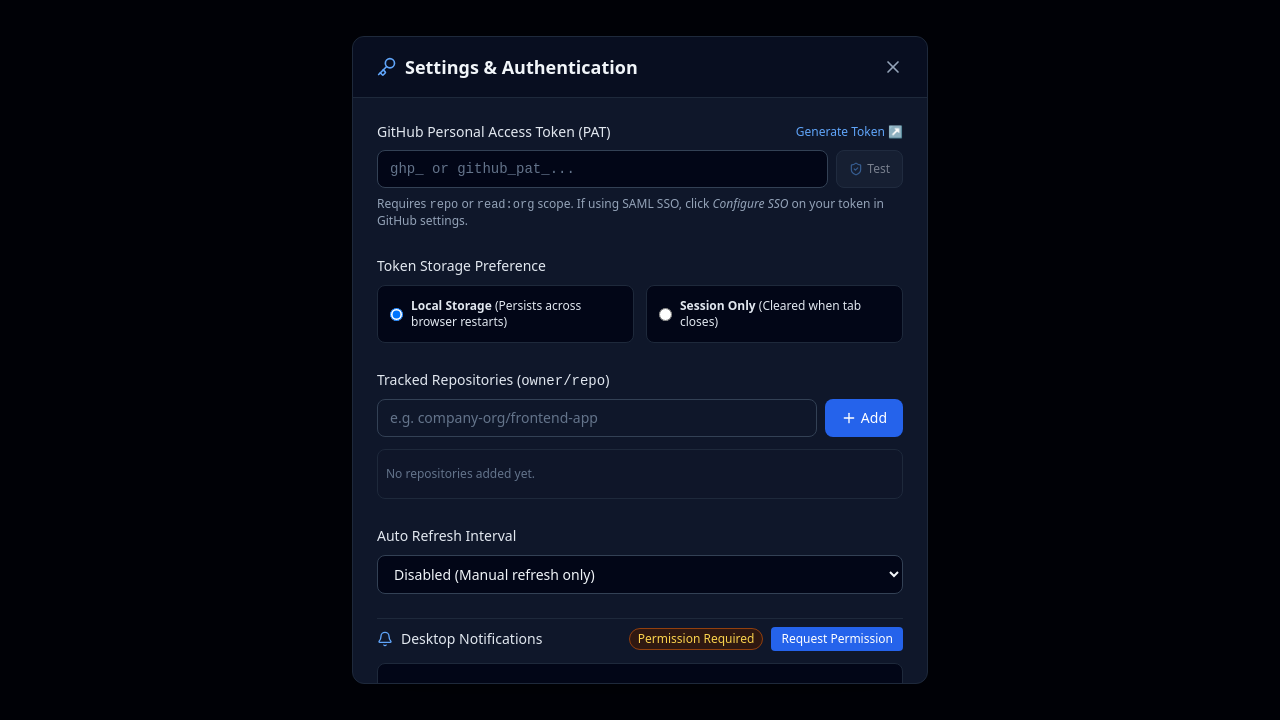
it: SettingsModal › requests notification permission when Request Permission button is clicked
The image size is (1280, 720).
Check: the text "Permission Required" is shown, box top-left (629, 628), bottom-right (763, 650)
Step 1. Click the button "Request Permission" → (837, 639), box top-left (771, 627), bottom-right (903, 651)
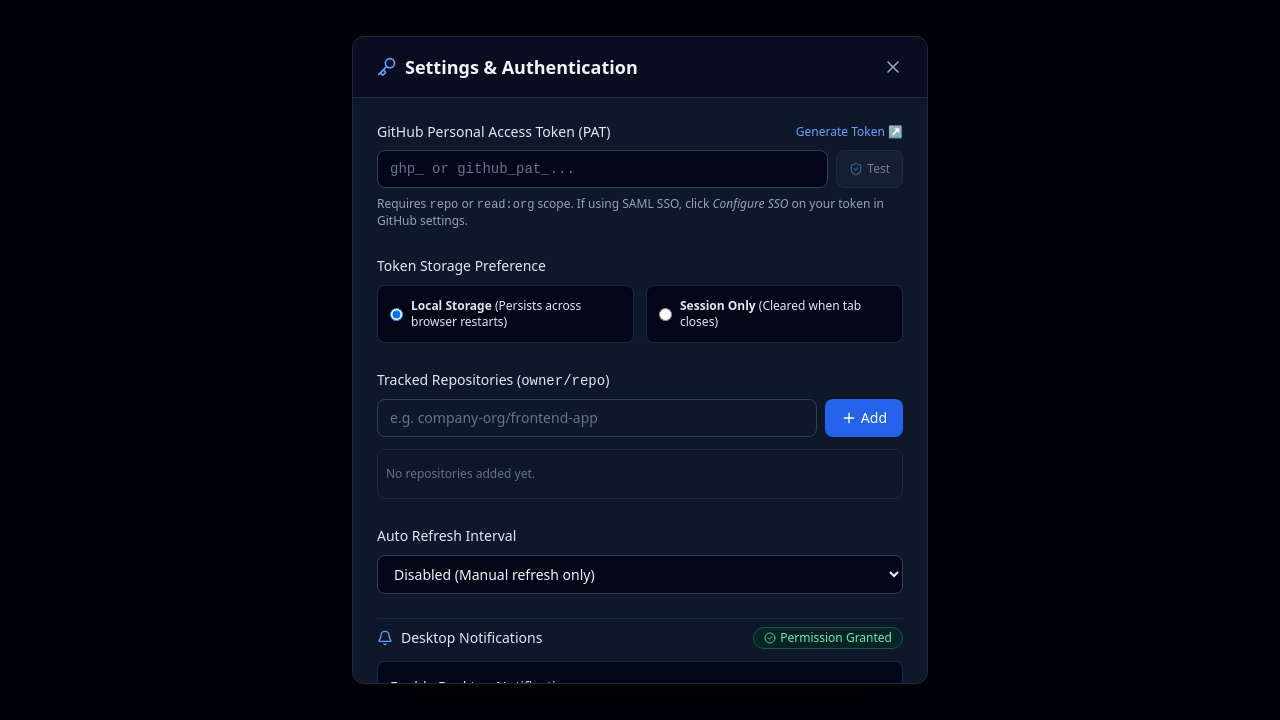
Check: the text "Permission Granted" is shown, box top-left (753, 627), bottom-right (903, 649)
